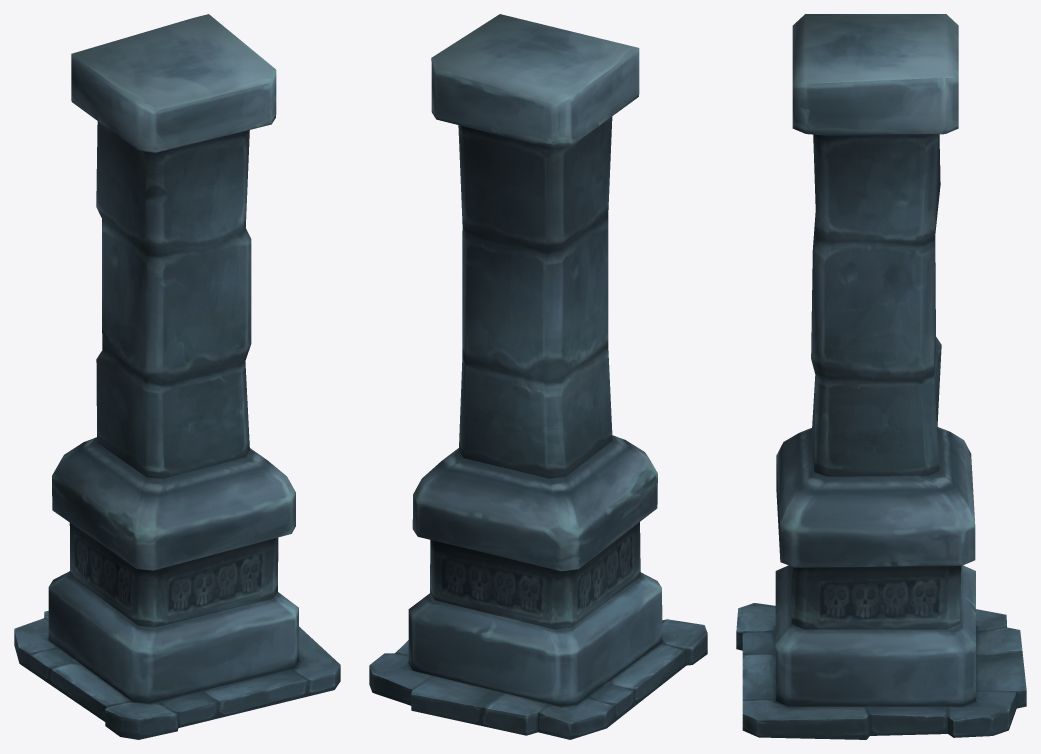
File: Low_Poly_Hand_Painted_Dungeon_Stone_Pillar.glb
3 views of the same model, side by side, from view 1: azimuth 30°, elevation 25°; view 2: azimuth 150°, elevation 25°; view 3: azimuth 270°, elevation 25° (orthographic). The views are drawn at different scales.
Parts seen in each view (by area): view 1: dungoen_pillar_pillar_mat_0; view 2: dungoen_pillar_pillar_mat_0; view 3: dungoen_pillar_pillar_mat_0.
Boxes of the visible parts, <box> form: dungoen_pillar_pillar_mat_0: <box>14,14,340,739</box>; dungoen_pillar_pillar_mat_0: <box>369,14,707,739</box>; dungoen_pillar_pillar_mat_0: <box>736,14,1026,739</box>.
Size of the model in its own units: 80.84 by 207 by 85.34.
Materials: 1 (1 with a texture image).
